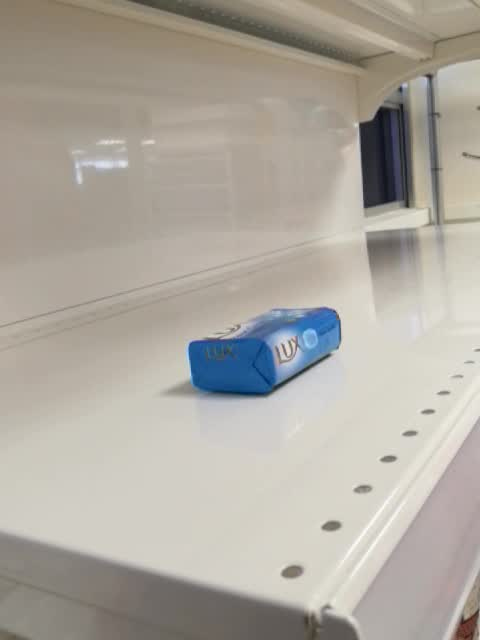soap: (185, 306, 343, 397)
